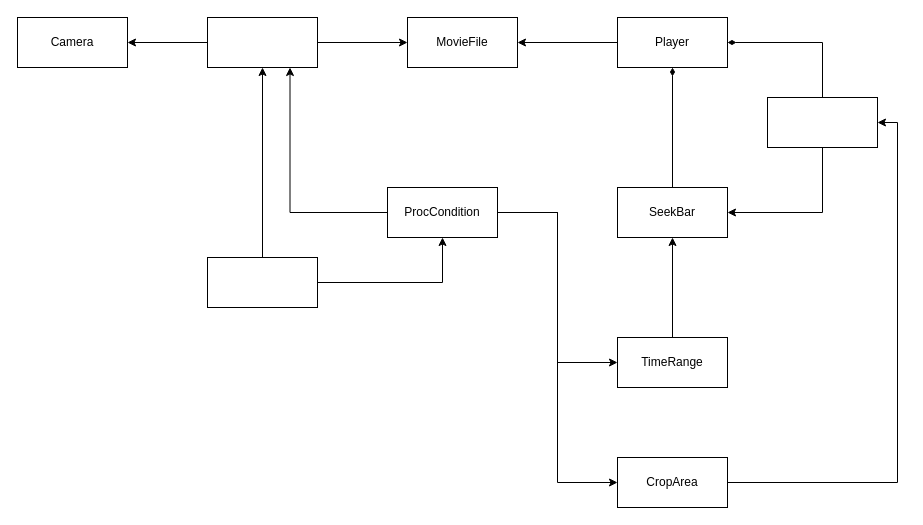
This 923x525 diagram has some shape labels left out. The box of each missing label's shape, as (x1, y1, x2, y2) in pixels:
GIFFile: (206, 256, 318, 308)
Movie: (206, 16, 318, 68)
Thumbnail: (766, 96, 878, 148)
